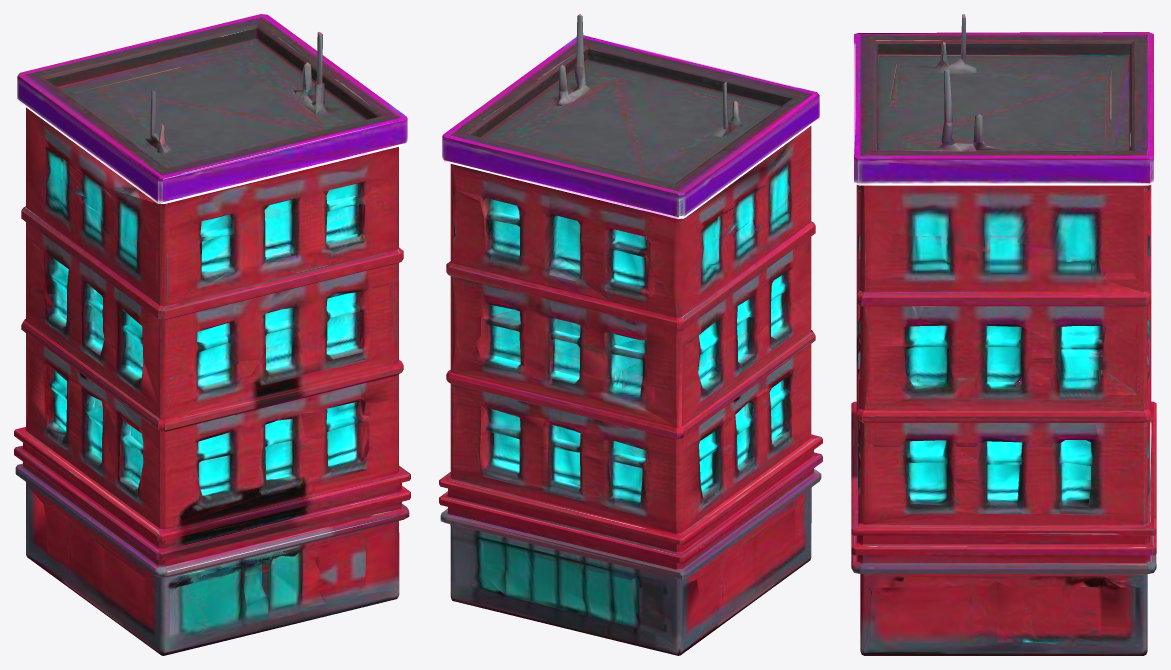
The model's file is building_brick.glb.
3 views of the same model, side by side, from view 1: azimuth 30°, elevation 25°; view 2: azimuth 150°, elevation 25°; view 3: azimuth 270°, elevation 25° (orthographic). The views are drawn at different scales.
Bounding box in the file's own units: 0.9276 × 1.91 × 0.9276.
Materials: 1 (1 with a texture image).
